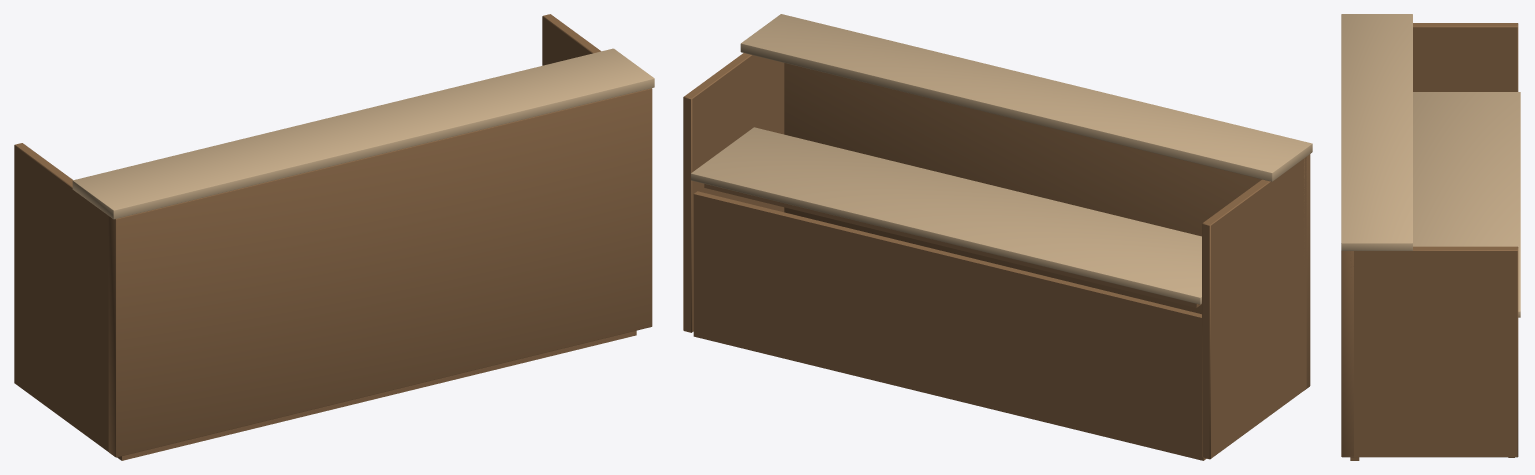
Rendered from reception-desk.glb.
3 views of the same model, side by side, from view 1: azimuth 30°, elevation 25°; view 2: azimuth 150°, elevation 25°; view 3: azimuth 270°, elevation 25° (orthographic). The views are drawn at different scales.
Parts seen in each view (by area): view 1: reception-desk; view 2: reception-desk; view 3: reception-desk.
Part boxes in pixels (left/top/right/bottom): reception-desk: left=14, top=14, right=654, bottom=460; reception-desk: left=683, top=14, right=1312, bottom=460; reception-desk: left=1341, top=14, right=1520, bottom=460.
Bounding box in the file's own units: 2.42 × 1.1 × 0.8.
